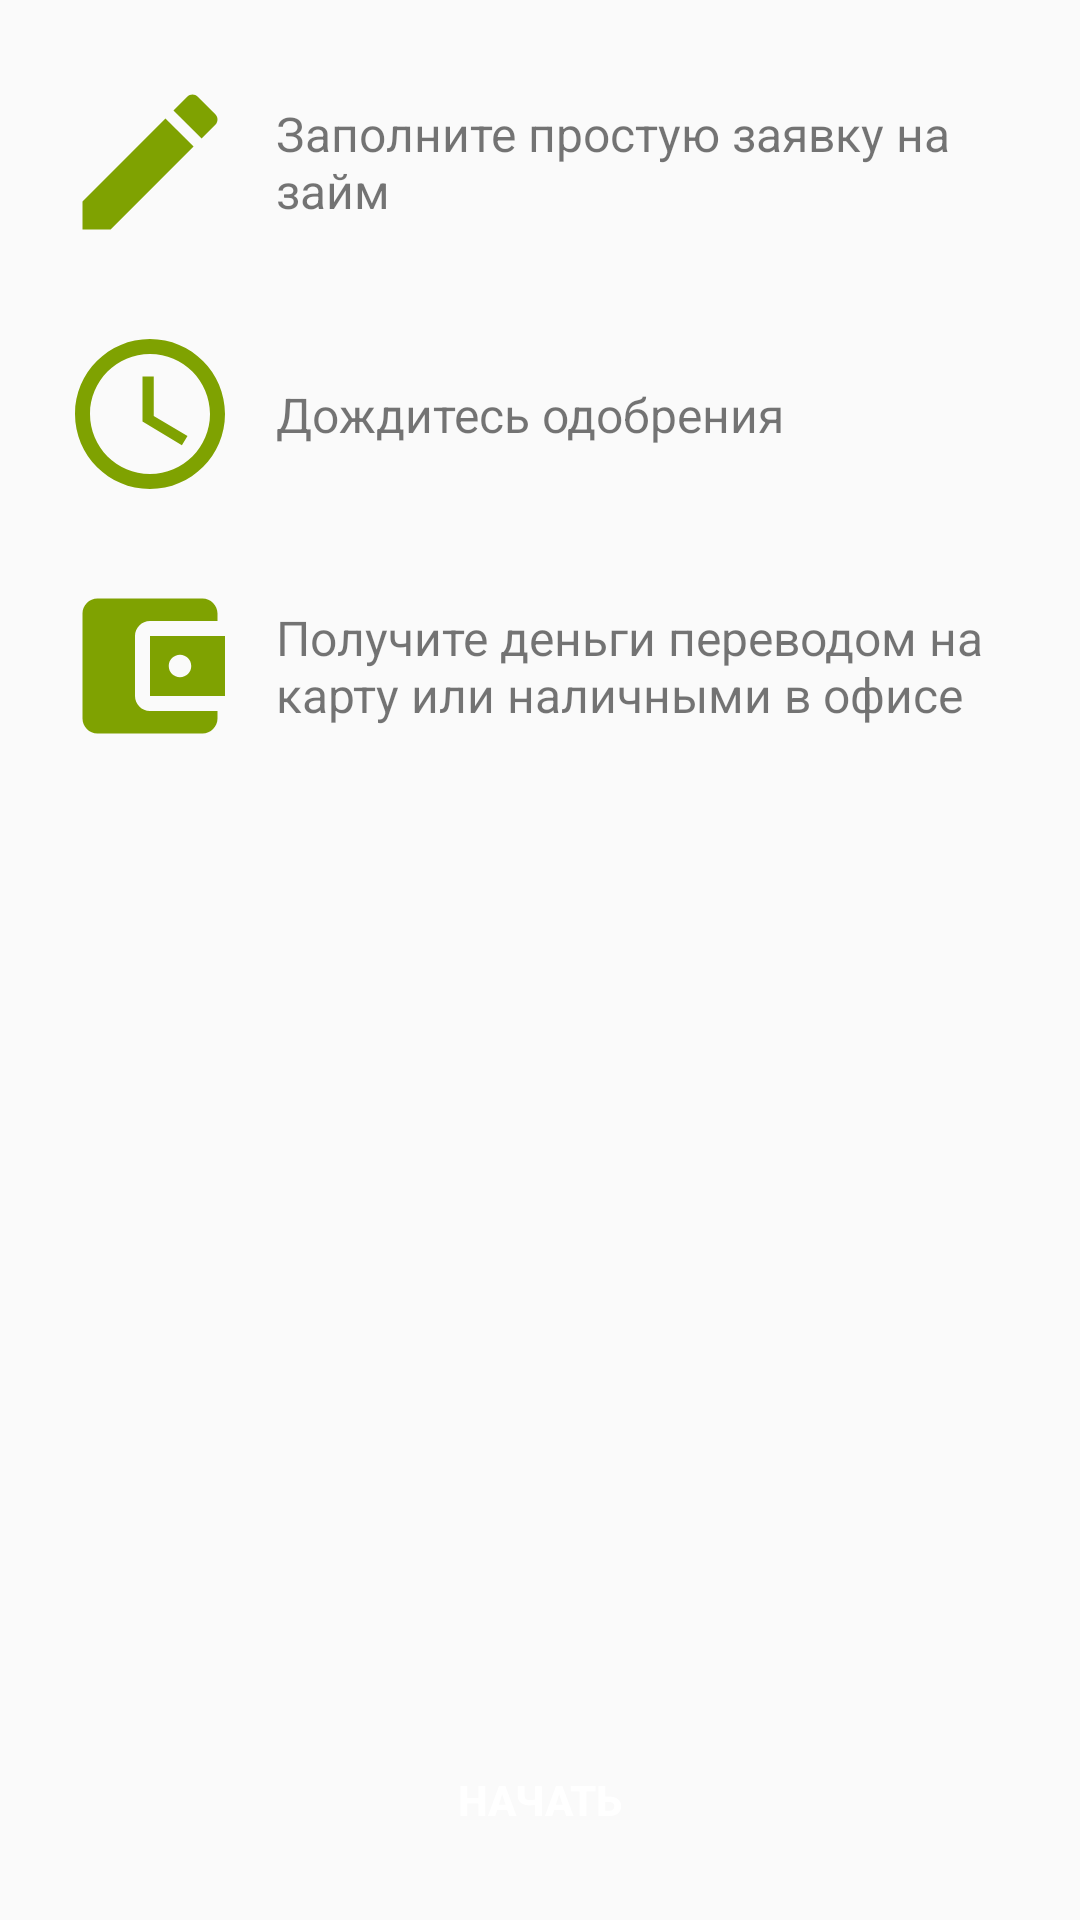

Icons on this 1080px×1920px Android screen, each with the point to tap as (x,y):
access time: (150,414)
account balance wallet: (153,666)
create: (150,162)
